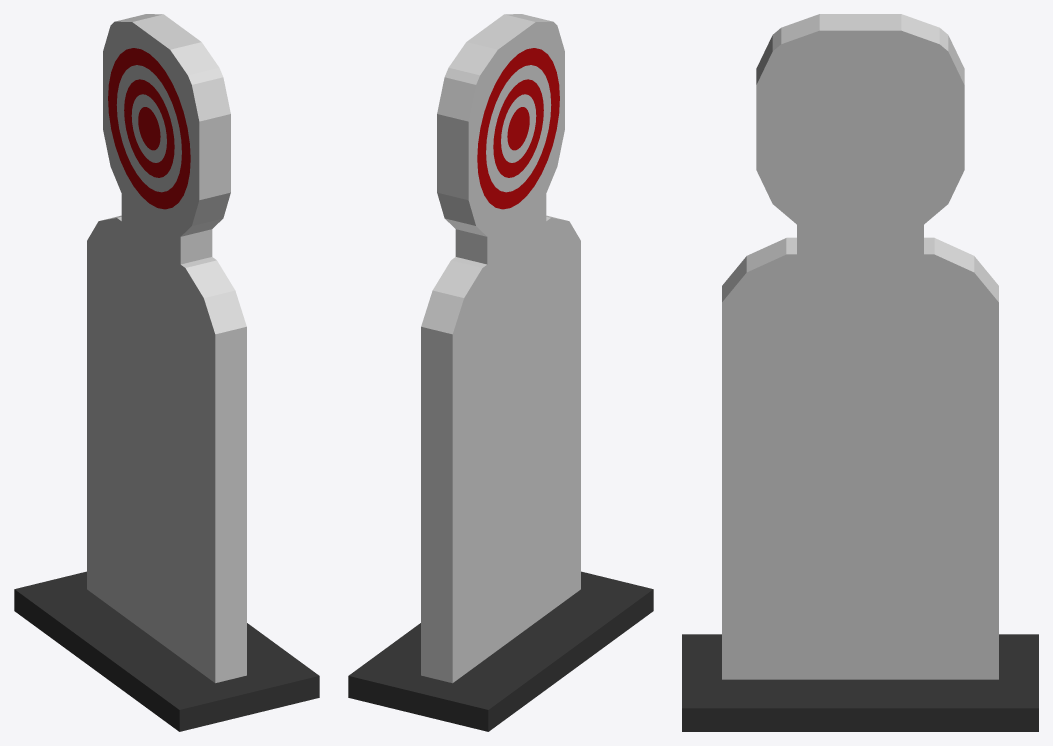
The model's file is Target.fbx.
3 views of the same model, side by side, from view 1: azimuth 30°, elevation 25°; view 2: azimuth 150°, elevation 25°; view 3: azimuth 270°, elevation 25° (orthographic). The views are drawn at different scales.
Parts seen in each view (by area): view 1: 1, 2; view 2: 1, 2; view 3: 1, 2.
Boxes of the visible parts, x1,y1,x2,y2 form: 1: [87, 14, 246, 683]; 2: [14, 571, 319, 731]; 1: [421, 14, 580, 683]; 2: [348, 571, 653, 731]; 1: [722, 14, 998, 679]; 2: [682, 634, 1038, 731].
Bounding box in the file's own units: 97.96 × 416 × 200.
